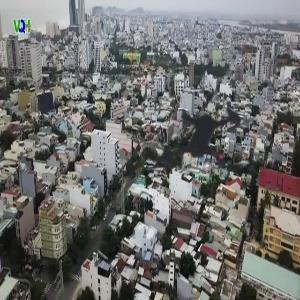drone: (117, 57, 292, 232)
